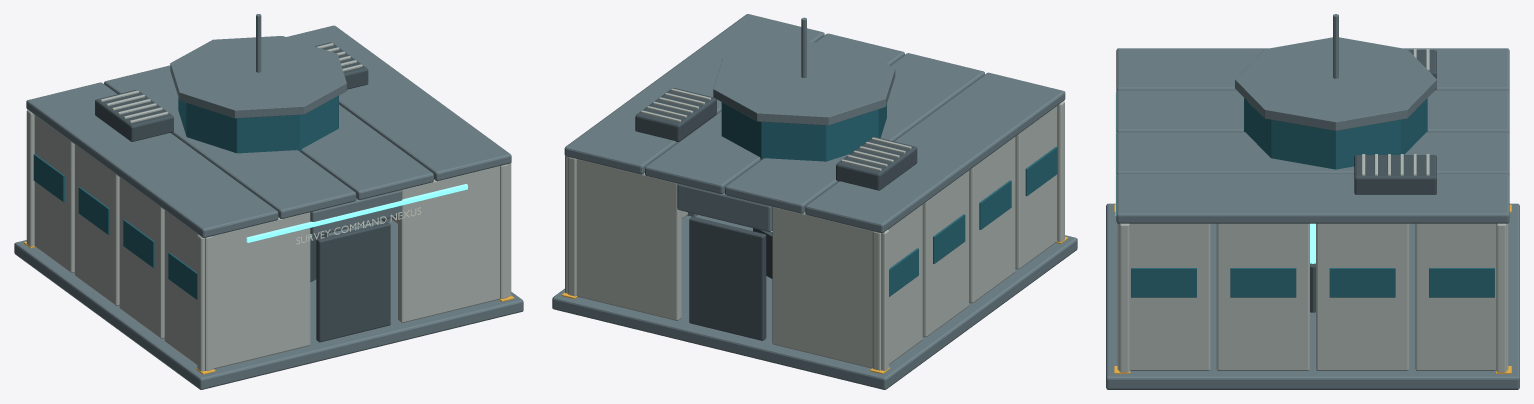
File: command_operations_d0.glb
The picture shows the model from 3 angles, left to right: view 1: azimuth 30°, elevation 25°; view 2: azimuth 150°, elevation 25°; view 3: azimuth 270°, elevation 25°; orthographic projection. The views are drawn at different scales.
Parts seen in each view (by area): view 1: End bulkhead, End bulkhead.001, Removable roof segment, Foundation, Crown armor, Removable roof segment.003, Removable roof segment.001, Sealed airlock, Removable roof segment.002, Observation crown, Side pressure panel.002, Side pressure panel.001 (+13 smaller); view 2: End bulkhead.003, End bulkhead.002, Removable roof segment, Foundation, Crown armor, Removable roof segment.003, Removable roof segment.001, Sealed airlock.001, Observation crown, Removable roof segment.002, Side pressure panel.001, Side pressure panel.002 (+11 smaller); view 3: Removable roof segment.003, Foundation, Crown armor, Side pressure panel.005, Side pressure panel.006, Side pressure panel.004, Side pressure panel.007, Removable roof segment.002, Removable roof segment.001, Removable roof segment, Observation crown, Roof heat exchanger.001 (+8 smaller).
Part boxes in pixels (left/top/right/bottom): End bulkhead: left=197, top=212, right=310, bottom=371; End bulkhead.001: left=398, top=163, right=511, bottom=322; Removable roof segment: left=26, top=82, right=278, bottom=237; Foundation: left=14, top=220, right=523, bottom=389; Crown armor: left=170, top=36, right=346, bottom=118; Removable roof segment.003: left=286, top=25, right=511, bottom=181; Removable roof segment.001: left=104, top=65, right=356, bottom=218; Sealed airlock: left=316, top=222, right=390, bottom=342; Removable roof segment.002: left=300, top=104, right=433, bottom=199; Observation crown: left=178, top=95, right=338, bottom=153; Side pressure panel.002: left=74, top=144, right=119, bottom=305; Side pressure panel.001: left=119, top=177, right=164, bottom=338; End bulkhead.003: left=565, top=156, right=681, bottom=320; End bulkhead.002: left=772, top=206, right=888, bottom=370; Removable roof segment: left=805, top=72, right=1065, bottom=233; Foundation: left=552, top=215, right=1077, bottom=389; Crown armor: left=713, top=40, right=895, bottom=125; Removable roof segment.003: left=564, top=14, right=824, bottom=174; Removable roof segment.001: left=725, top=53, right=984, bottom=213; Sealed airlock.001: left=689, top=216, right=766, bottom=340; Observation crown: left=721, top=102, right=886, bottom=161; Removable roof segment.002: left=645, top=33, right=904, bottom=193; Side pressure panel.001: left=969, top=137, right=1015, bottom=303; Side pressure panel.002: left=922, top=170, right=968, bottom=337; Removable roof segment.003: left=1116, top=174, right=1509, bottom=223; Foundation: left=1106, top=203, right=1519, bottom=389; Crown armor: left=1235, top=37, right=1436, bottom=130; Side pressure panel.005: left=1216, top=223, right=1309, bottom=370; Side pressure panel.006: left=1316, top=223, right=1409, bottom=370; Side pressure panel.004: left=1117, top=223, right=1210, bottom=370; Side pressure panel.007: left=1415, top=223, right=1508, bottom=370; Removable roof segment.002: left=1116, top=132, right=1509, bottom=175; Removable roof segment.001: left=1116, top=90, right=1509, bottom=133; Removable roof segment: left=1116, top=48, right=1509, bottom=91; Observation crown: left=1244, top=98, right=1427, bottom=169; Roof heat exchanger.001: left=1354, top=155, right=1436, bottom=194.
Size of the model in its own units: 9 by 6.92 by 9.
